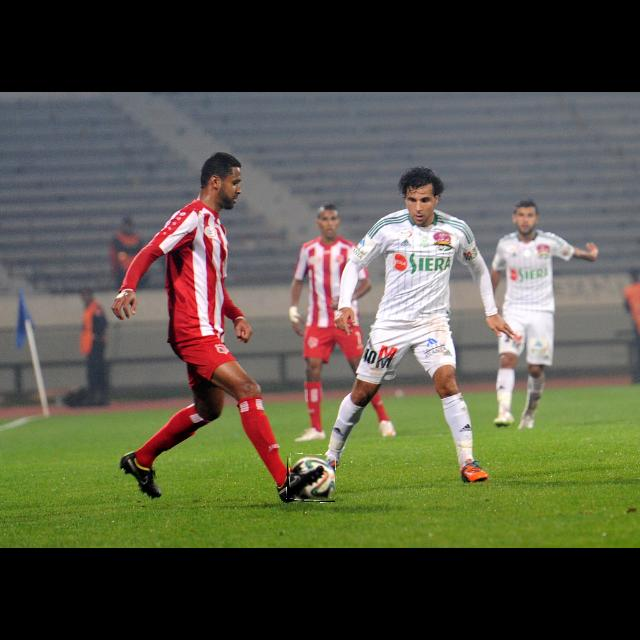Football: (287, 454, 335, 502)
